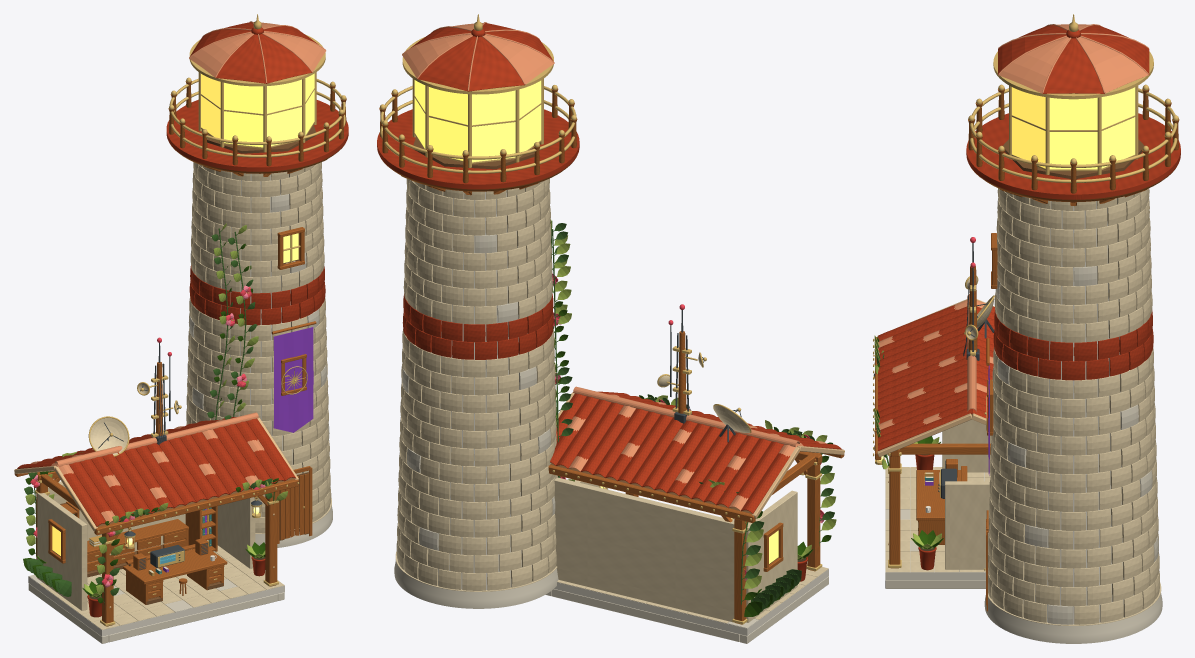
File: contact-lighthouse-v1-r1-review-batched.glb
3 views of the same model, side by side, from view 1: azimuth 30°, elevation 25°; view 2: azimuth 150°, elevation 25°; view 3: azimuth 270°, elevation 25° (orthographic). The views are drawn at different scales.
Visible parts, largest first — view 1: Batched_40_ContactLighthouse_PBR_Cream_Limestone, Batched_30_ContactLighthouse_PBR_Terracotta, Batched_16_ContactLighthouse_PBR_Honey_Timber, Batched_34_ContactLighthouse_PBR_Amber_Glass, Batched_42_ContactLighthouse_PBR_Honey_Timber, Batched_32_ContactLighthouse_PBR_Terracotta_Sun, Batched_29_ContactLighthouse_PBR_Brass, Batched_28_ContactLighthouse_PBR_Honey_Timber, Batched_38_ContactLighthouse_PBR_Stone_Shade, Batched_44_ContactLighthouse_PBR_Terracotta, Batched_15_ContactLighthouse_PBR_Violet_Linen, Batched_43_ContactLighthouse_PBR_Mortar (+11 smaller); view 2: Batched_40_ContactLighthouse_PBR_Cream_Limestone, Batched_30_ContactLighthouse_PBR_Terracotta, Batched_38_ContactLighthouse_PBR_Stone_Shade, Batched_34_ContactLighthouse_PBR_Amber_Glass, Batched_32_ContactLighthouse_PBR_Terracotta_Sun, Batched_29_ContactLighthouse_PBR_Brass, Batched_28_ContactLighthouse_PBR_Honey_Timber, Batched_44_ContactLighthouse_PBR_Terracotta, Batched_43_ContactLighthouse_PBR_Mortar, Batched_9_ContactLighthouse_PBR_Leaf_Deep, Batched_42_ContactLighthouse_PBR_Honey_Timber, Batched_3_ContactLighthouse_PBR_Leaf_Young (+4 smaller); view 3: Batched_40_ContactLighthouse_PBR_Cream_Limestone, Batched_30_ContactLighthouse_PBR_Terracotta, Batched_34_ContactLighthouse_PBR_Amber_Glass, Batched_38_ContactLighthouse_PBR_Stone_Shade, Batched_44_ContactLighthouse_PBR_Terracotta, Batched_29_ContactLighthouse_PBR_Brass, Batched_32_ContactLighthouse_PBR_Terracotta_Sun, Batched_28_ContactLighthouse_PBR_Honey_Timber, Batched_43_ContactLighthouse_PBR_Mortar, Batched_42_ContactLighthouse_PBR_Honey_Timber, Batched_16_ContactLighthouse_PBR_Honey_Timber, Batched_33_ContactLighthouse_PBR_Pale_Endgrain (+4 smaller).
Boxes of the visible parts, x1,y1,x2,y2 form: Batched_40_ContactLighthouse_PBR_Cream_Limestone: (37, 162, 331, 629); Batched_30_ContactLighthouse_PBR_Terracotta: (17, 22, 348, 526); Batched_16_ContactLighthouse_PBR_Honey_Timber: (61, 501, 227, 604); Batched_34_ContactLighthouse_PBR_Amber_Glass: (201, 73, 314, 147); Batched_42_ContactLighthouse_PBR_Honey_Timber: (36, 227, 312, 626); Batched_32_ContactLighthouse_PBR_Terracotta_Sun: (30, 21, 326, 523); Batched_29_ContactLighthouse_PBR_Brass: (14, 14, 346, 532); Batched_28_ContactLighthouse_PBR_Honey_Timber: (14, 81, 346, 539); Batched_38_ContactLighthouse_PBR_Stone_Shade: (28, 194, 332, 643); Batched_44_ContactLighthouse_PBR_Terracotta: (189, 265, 325, 325); Batched_15_ContactLighthouse_PBR_Violet_Linen: (273, 327, 313, 432); Batched_43_ContactLighthouse_PBR_Mortar: (28, 172, 310, 636); Batched_40_ContactLighthouse_PBR_Cream_Limestone: (395, 178, 828, 623); Batched_30_ContactLighthouse_PBR_Terracotta: (377, 23, 841, 513); Batched_38_ContactLighthouse_PBR_Stone_Shade: (394, 234, 828, 643); Batched_34_ContactLighthouse_PBR_Amber_Glass: (414, 80, 541, 162); Batched_32_ContactLighthouse_PBR_Terracotta_Sun: (402, 22, 826, 510); Batched_29_ContactLighthouse_PBR_Brass: (379, 14, 844, 520); Batched_28_ContactLighthouse_PBR_Honey_Timber: (379, 88, 844, 523); Batched_44_ContactLighthouse_PBR_Terracotta: (402, 293, 553, 359); Batched_43_ContactLighthouse_PBR_Mortar: (419, 190, 828, 635); Batched_9_ContactLighthouse_PBR_Leaf_Deep: (551, 220, 834, 612); Batched_42_ContactLighthouse_PBR_Honey_Timber: (625, 458, 820, 624); Batched_3_ContactLighthouse_PBR_Leaf_Young: (550, 219, 836, 594); Batched_40_ContactLighthouse_PBR_Cream_Limestone: (885, 188, 1161, 625); Batched_30_ContactLighthouse_PBR_Terracotta: (878, 25, 1180, 450); Batched_34_ContactLighthouse_PBR_Amber_Glass: (1012, 87, 1135, 169); Batched_38_ContactLighthouse_PBR_Stone_Shade: (885, 198, 1162, 643); Batched_44_ContactLighthouse_PBR_Terracotta: (993, 310, 1153, 380); Batched_29_ContactLighthouse_PBR_Brass: (873, 14, 1178, 456); Batched_32_ContactLighthouse_PBR_Terracotta_Sun: (878, 24, 1148, 429); Batched_28_ContactLighthouse_PBR_Honey_Timber: (874, 88, 1179, 459); Batched_43_ContactLighthouse_PBR_Mortar: (885, 201, 1133, 624); Batched_42_ContactLighthouse_PBR_Honey_Timber: (889, 233, 997, 611); Batched_16_ContactLighthouse_PBR_Honey_Timber: (916, 459, 967, 544); Batched_33_ContactLighthouse_PBR_Pale_Endgrain: (877, 299, 994, 456).
Bounding box in the file's own units: 11.74 × 17.73 × 8.17.
25 materials, 6 textured.
